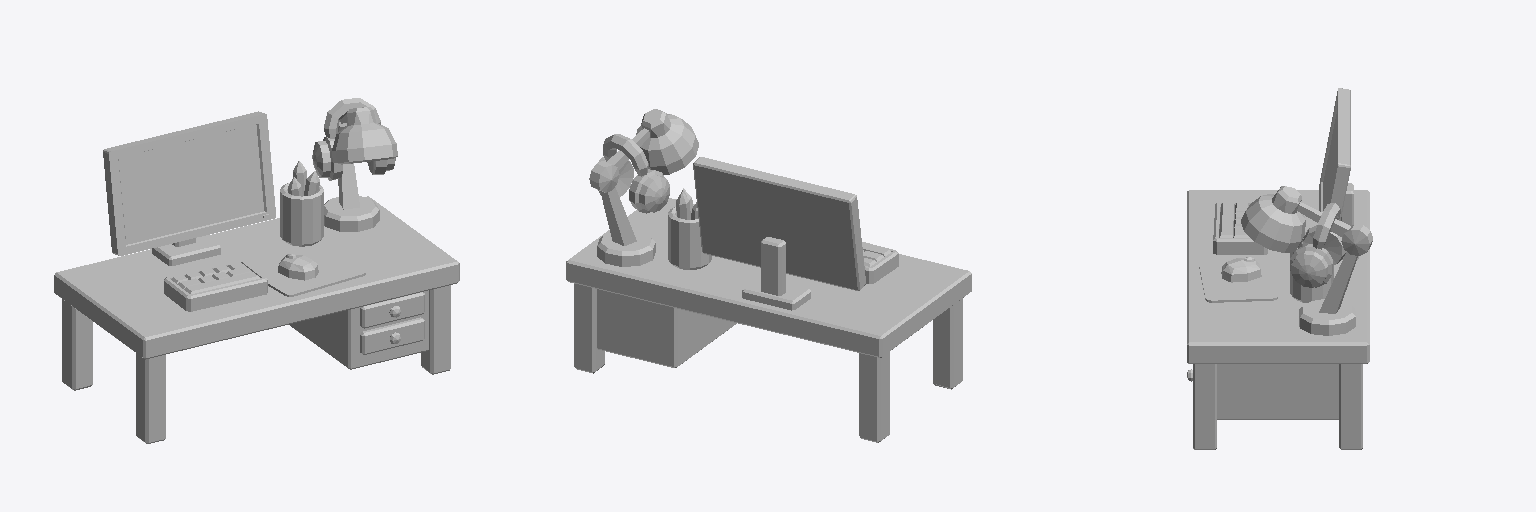
File: desk_decorated.obj
3 renders of one model, left to right at view 1: azimuth 30°, elevation 25°; view 2: azimuth 150°, elevation 25°; view 3: azimuth 270°, elevation 25°, orthographic.
Visible parts, largest first — view 1: desk_decorated_Cube.043; view 2: desk_decorated_Cube.043; view 3: desk_decorated_Cube.043.
Part boxes in pixels (left/top/right/bottom): desk_decorated_Cube.043: left=54, top=98, right=459, bottom=443; desk_decorated_Cube.043: left=566, top=109, right=971, bottom=442; desk_decorated_Cube.043: left=1187, top=88, right=1372, bottom=449.
Size of the model in its own units: 3 by 2.18 by 1.53.